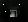person: (12, 8, 21, 17)
